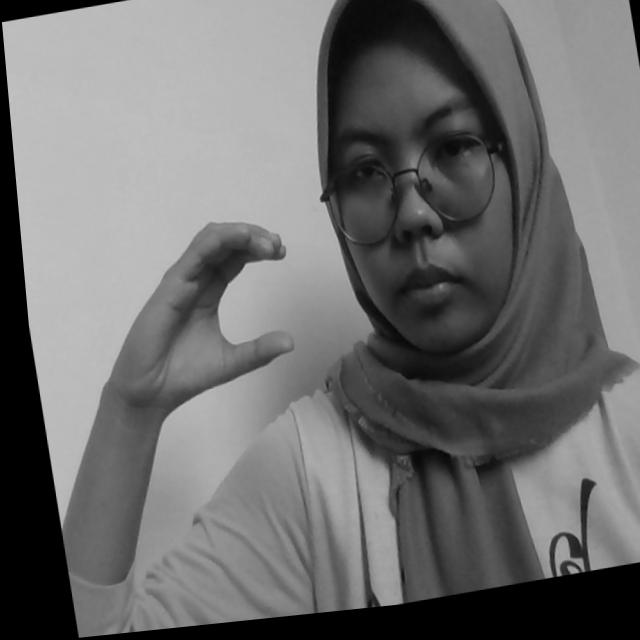C: (83, 212, 303, 421)
